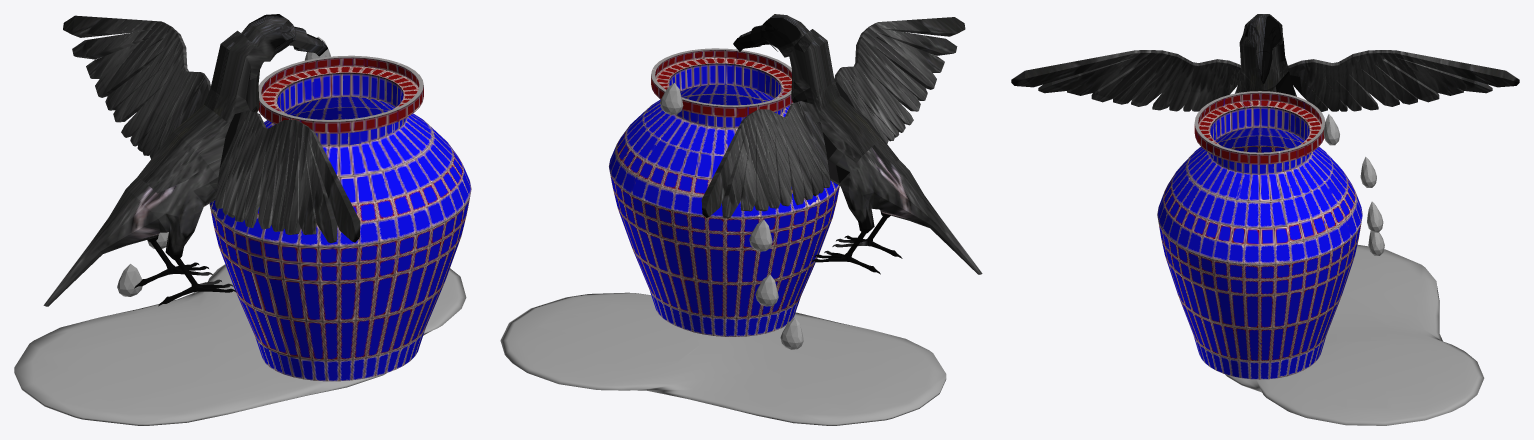
The model's file is bheegahuakaua14.obj.
The picture shows the model from 3 angles, left to right: view 1: azimuth 30°, elevation 25°; view 2: azimuth 150°, elevation 25°; view 3: azimuth 270°, elevation 25°; orthographic projection. The views are drawn at different scales.
Parts seen in each view (by area): view 1: Circle, Cylinder, Mball, Icosphere.002_Icosphere.003; view 2: Circle, Mball, Cylinder, Icosphere.001_Icosphere.002, Icosphere.002_Icosphere.003, Icosphere_Icosphere.001, Icosphere.003_Icosphere.004; view 3: Circle, Mball, Cylinder.
Part boxes in pixels (left/top/right/bottom): Circle: left=209, top=55, right=471, bottom=381; Cylinder: left=43, top=14, right=360, bottom=306; Mball: left=14, top=264, right=466, bottom=425; Icosphere.002_Icosphere.003: left=117, top=264, right=142, bottom=296; Circle: left=609, top=48, right=839, bottom=336; Mball: left=500, top=292, right=946, bottom=425; Cylinder: left=701, top=14, right=982, bottom=274; Icosphere.001_Icosphere.002: left=749, top=219, right=772, bottom=251; Icosphere.002_Icosphere.003: left=780, top=318, right=803, bottom=349; Icosphere_Icosphere.001: left=755, top=274, right=778, bottom=306; Icosphere.003_Icosphere.004: left=660, top=83, right=683, bottom=114; Circle: left=1157, top=91, right=1362, bottom=379; Mball: left=1225, top=244, right=1484, bottom=425; Cylinder: left=1011, top=14, right=1519, bottom=111.
Size of the model in its own units: 1.18 by 0.8853 by 1.28.
Materials: 10 (3 with a texture image).
